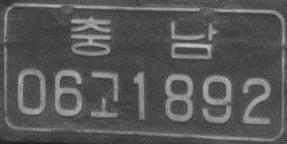0: (16, 68, 46, 116)
1: (125, 71, 155, 120)
2: (242, 76, 271, 125)
6: (53, 69, 83, 117)
8: (163, 73, 193, 122)
9: (201, 74, 231, 123)
고: (90, 70, 119, 118)
충남_D: (70, 15, 218, 59)
